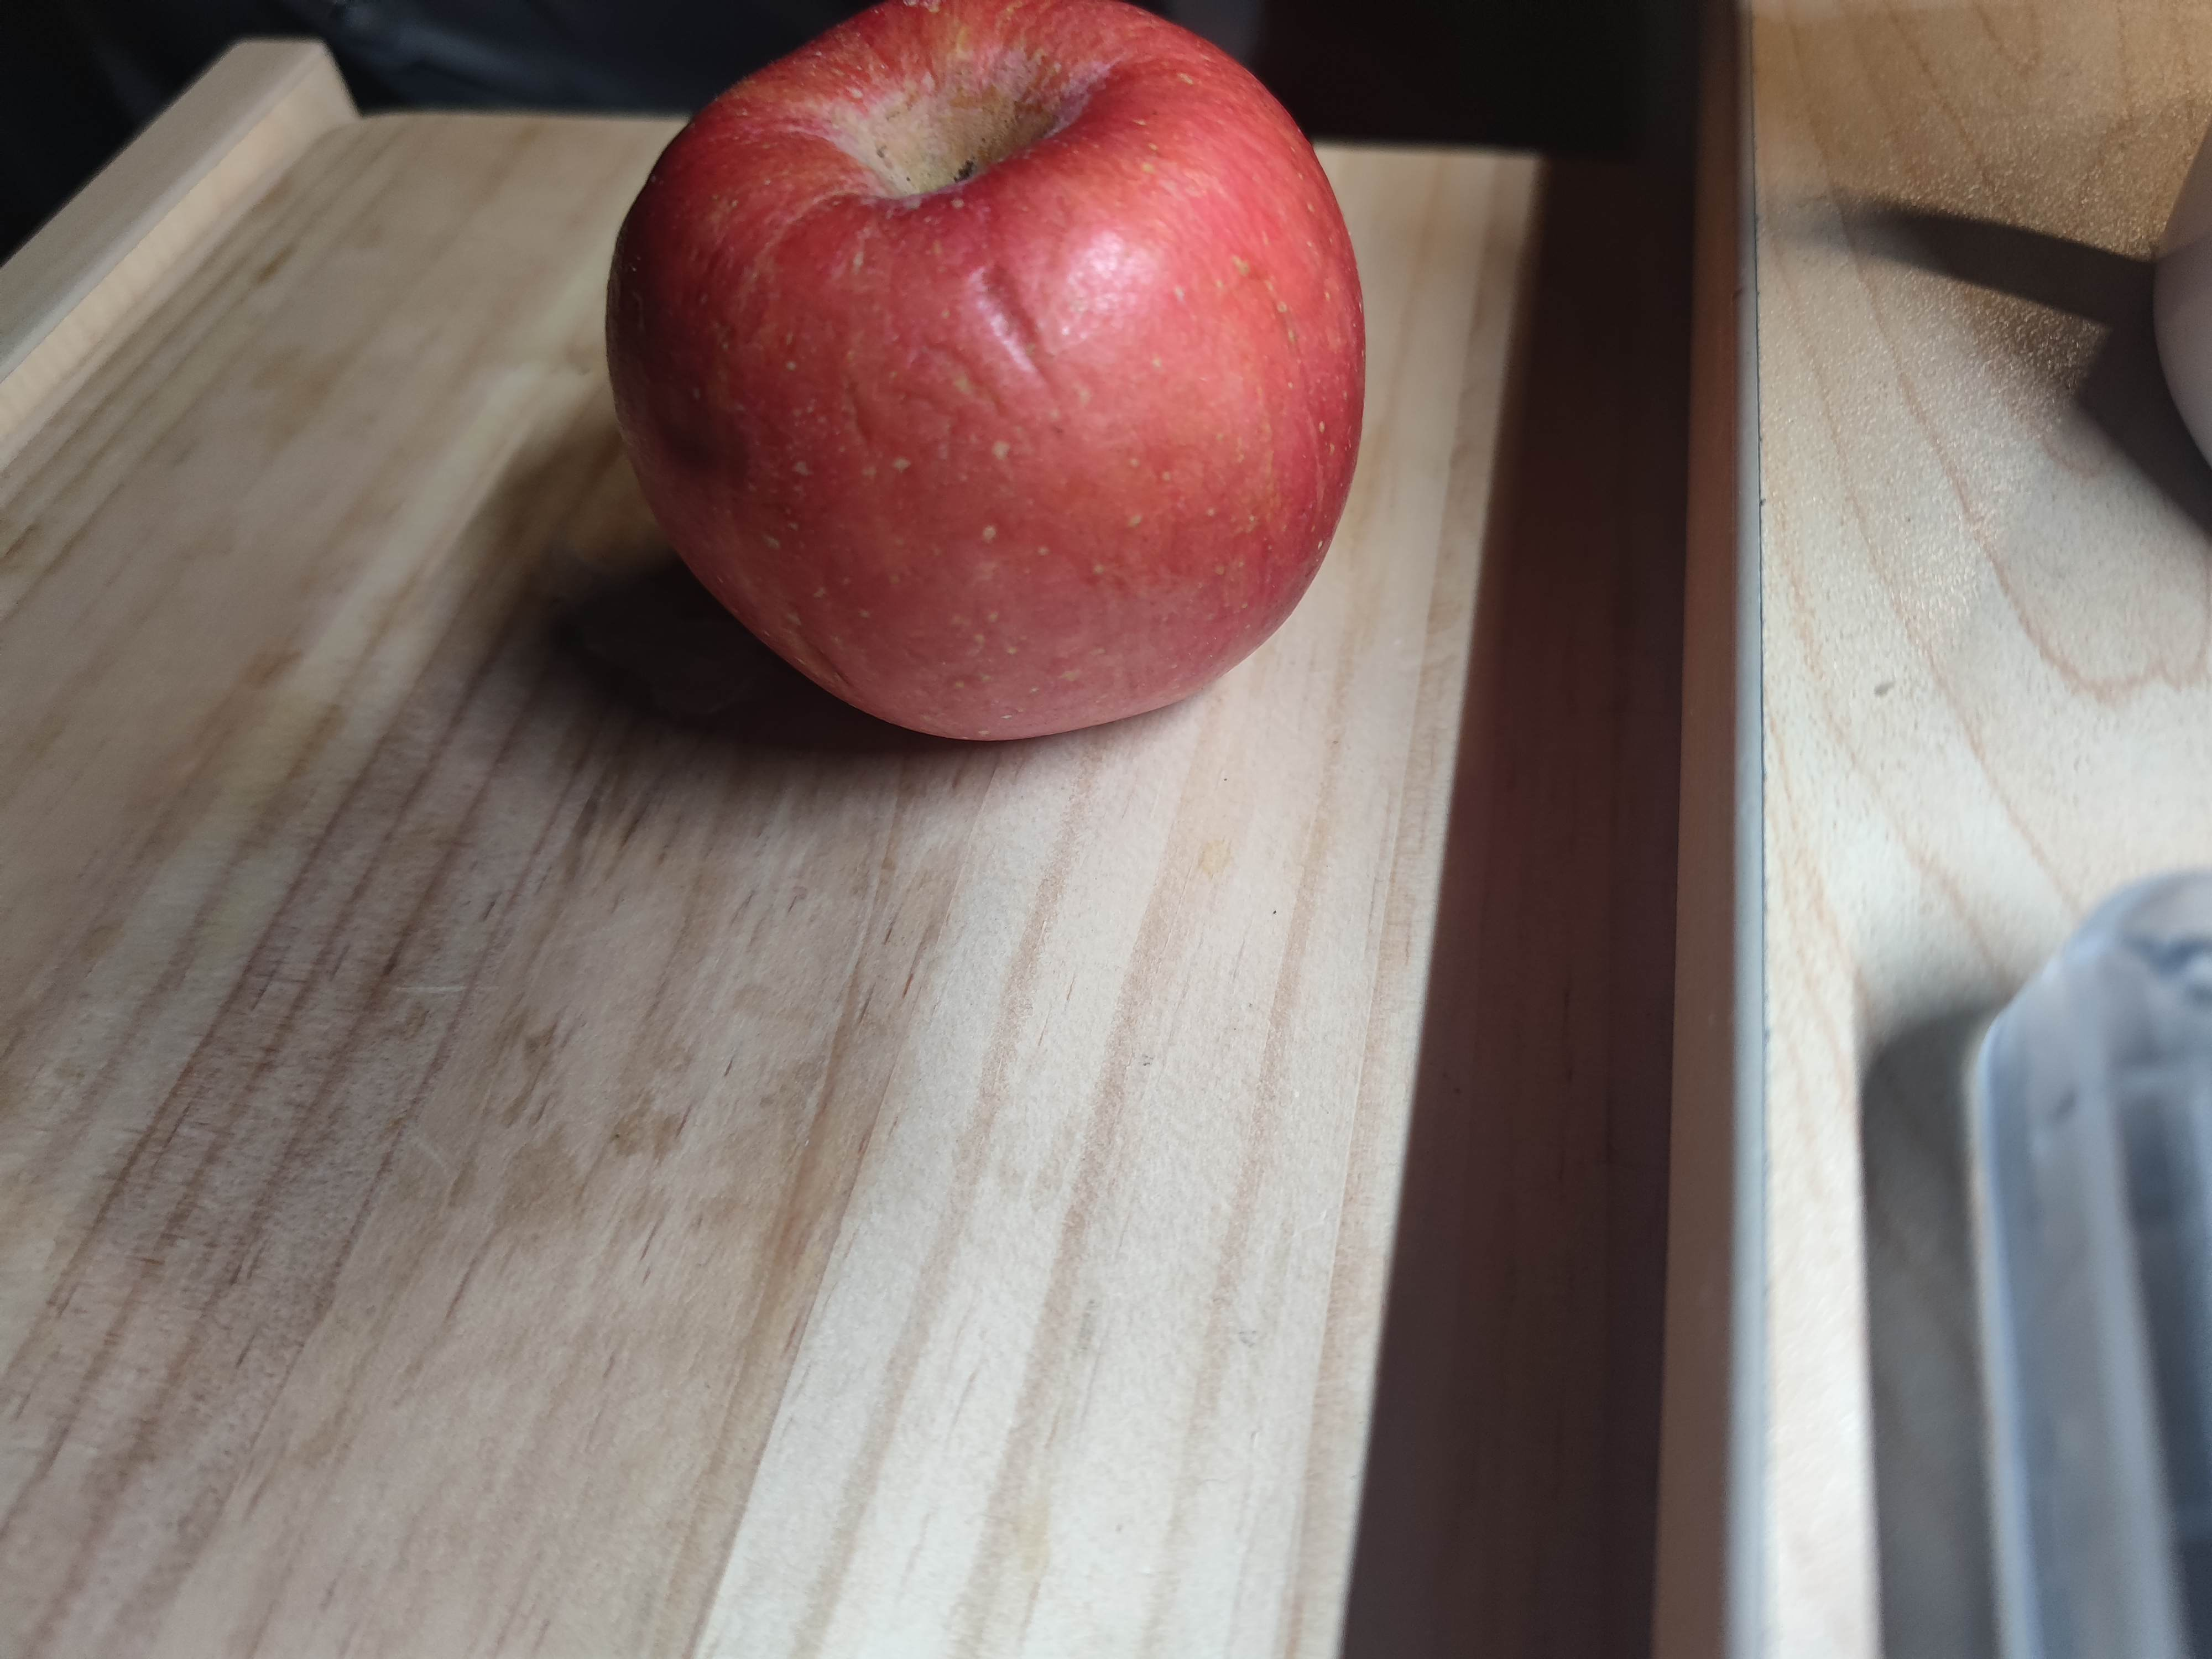apple: (599, 3, 1376, 782)
